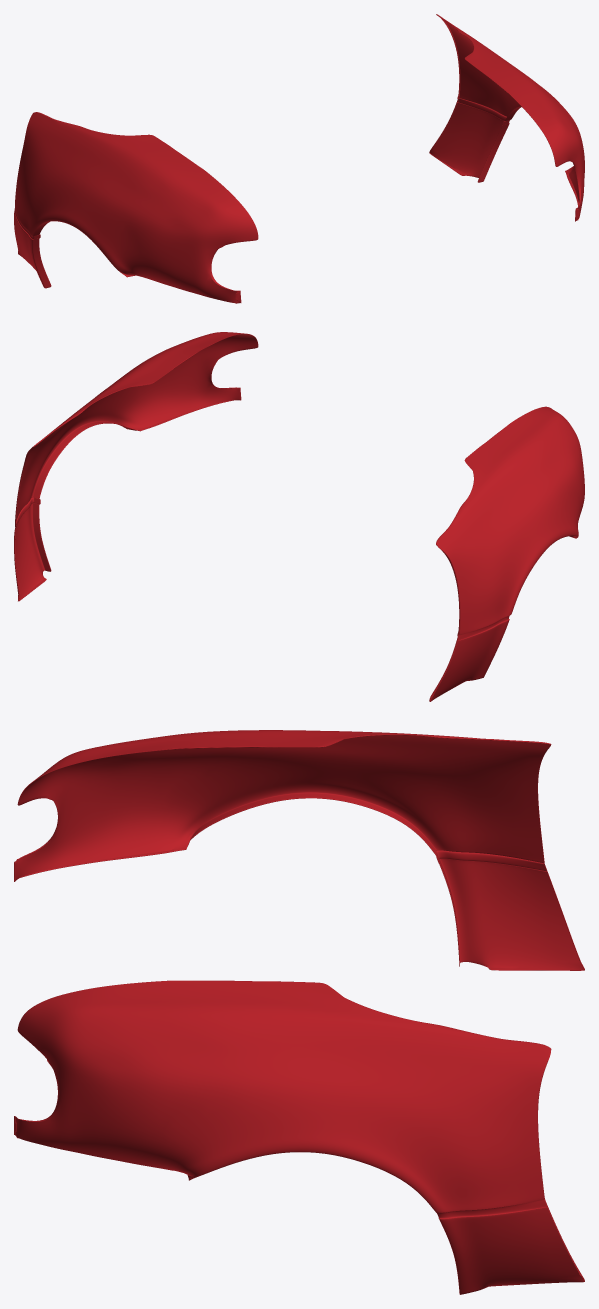
The picture shows the model from 3 angles, top to bottom: view 1: azimuth 30°, elevation 25°; view 2: azimuth 150°, elevation 25°; view 3: azimuth 270°, elevation 25°; orthographic projection. The views are drawn at different scales.
Parts seen in each view (by area): view 1: Miata_Aero_RearFlareBL; view 2: Miata_Aero_RearFlareBL; view 3: Miata_Aero_RearFlareBL.
Boxes of the visible parts, x1,y1,x2,y2 form: Miata_Aero_RearFlareBL: (14, 14, 584, 303); Miata_Aero_RearFlareBL: (14, 332, 584, 701); Miata_Aero_RearFlareBL: (14, 730, 584, 1294).
Size of the model in its own units: 73 by 24.82 by 48.46.
